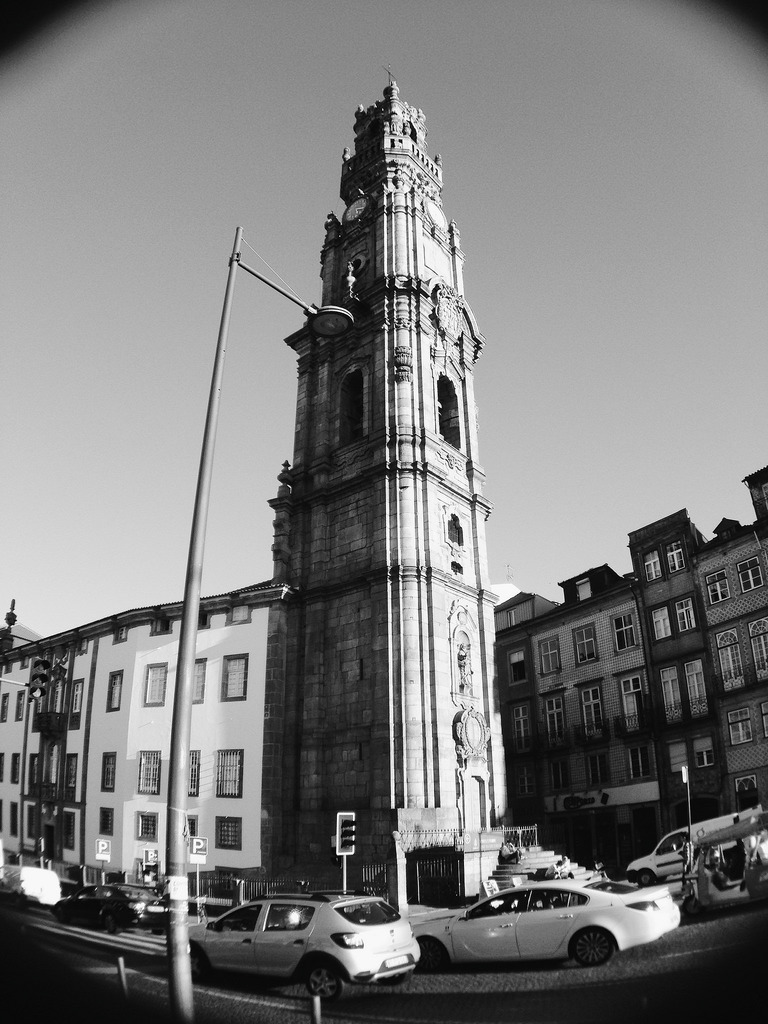clerigos: (264, 59, 510, 856)
